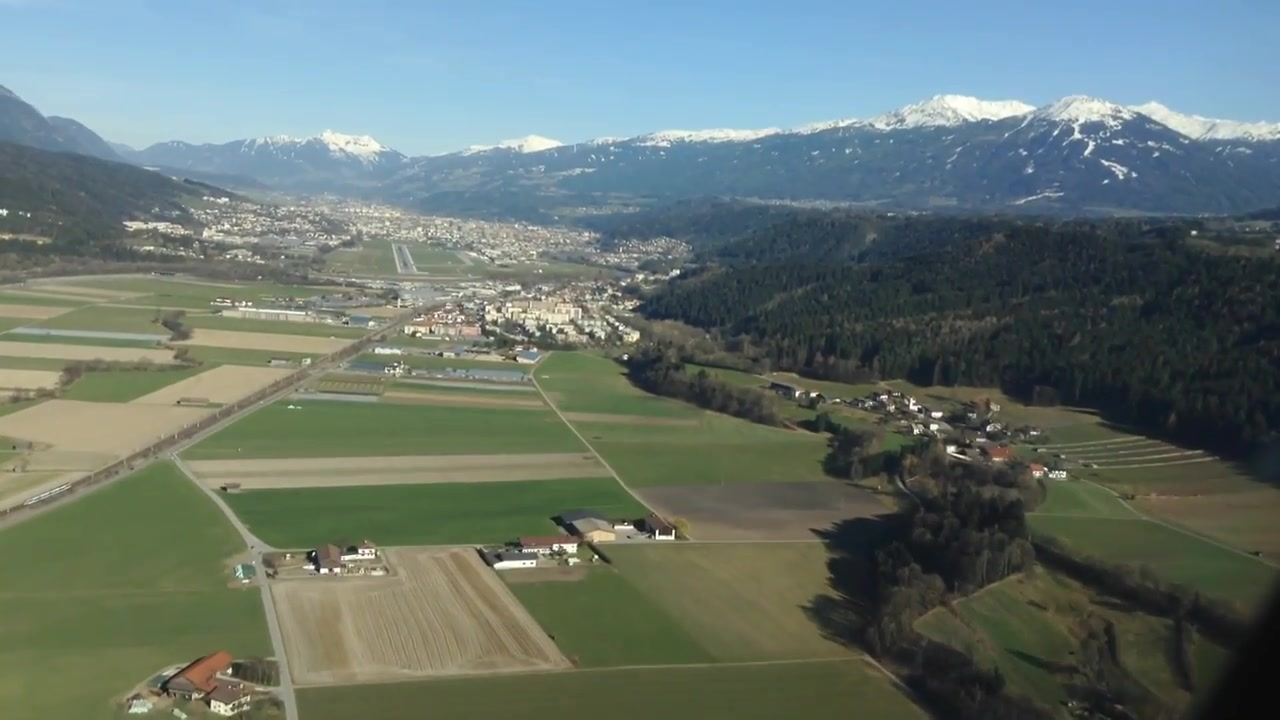runway: (390, 243, 417, 274)
